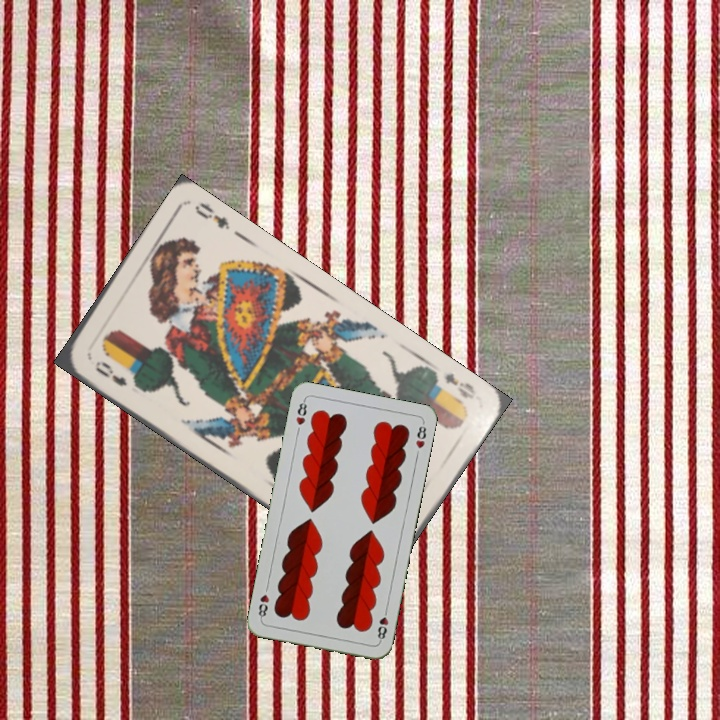EO: (440, 369, 479, 402), (90, 357, 130, 389)
H8: (373, 604, 391, 644), (292, 396, 309, 428)
